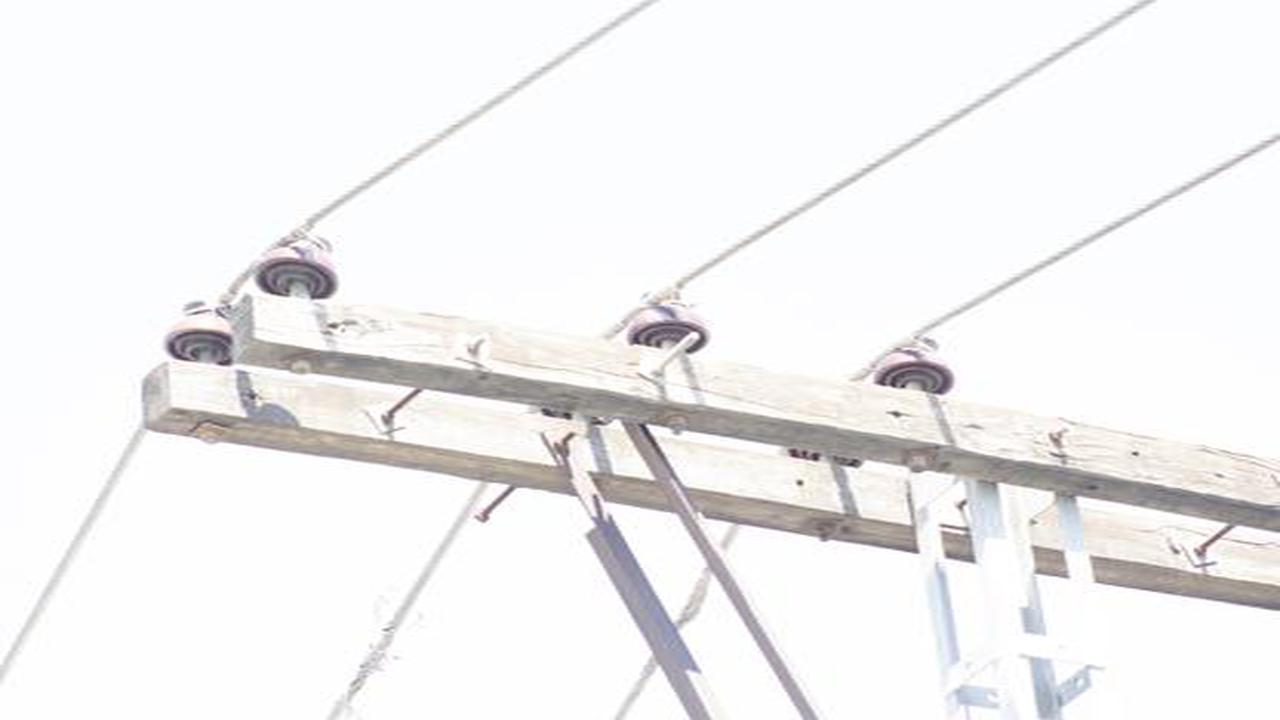insulator_pin: (625, 283, 716, 354), (252, 224, 337, 299), (875, 332, 956, 396), (165, 298, 236, 365)
